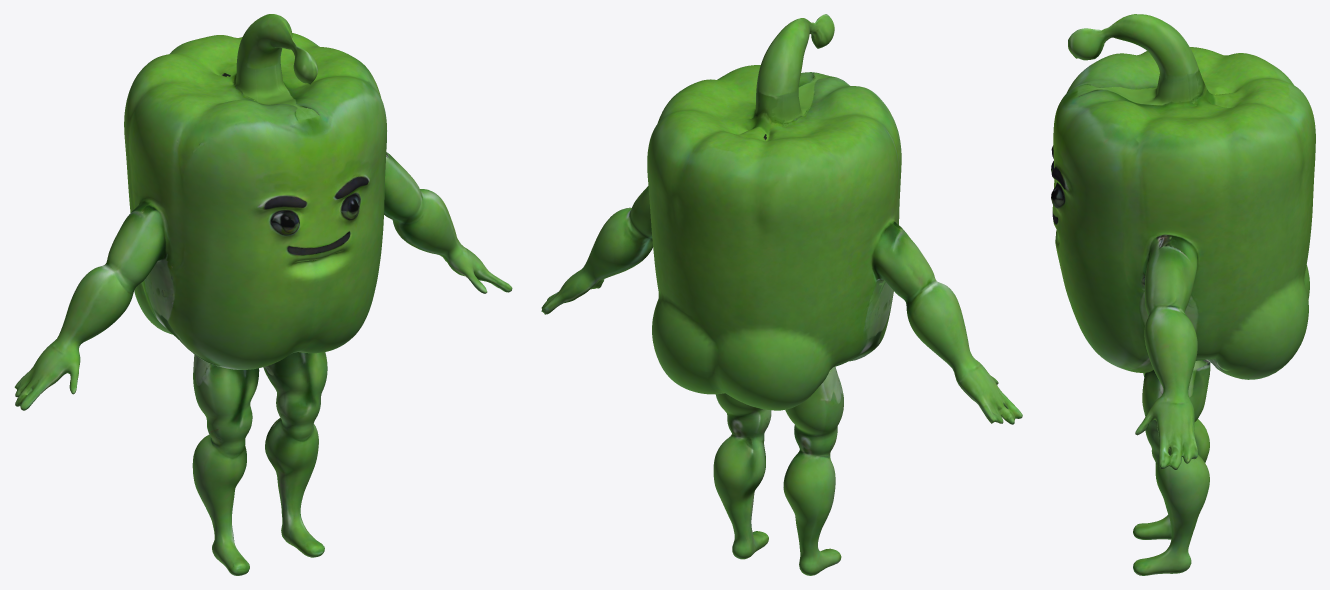
File: toad.glb
3 views of the same model, side by side, from view 1: azimuth 30°, elevation 25°; view 2: azimuth 150°, elevation 25°; view 3: azimuth 270°, elevation 25° (orthographic). The views are drawn at different scales.
Visible parts, largest first — view 1: Mesh_0; view 2: Mesh_0; view 3: Mesh_0.
Boxes of the visible parts, x1,y1,x2,y2 form: Mesh_0: [14, 14, 512, 575]; Mesh_0: [541, 14, 1022, 575]; Mesh_0: [1051, 14, 1315, 575].
Bounding box in the file's own units: 1.86 × 1.99 × 0.8812.
Materials: 1 (1 with a texture image).
